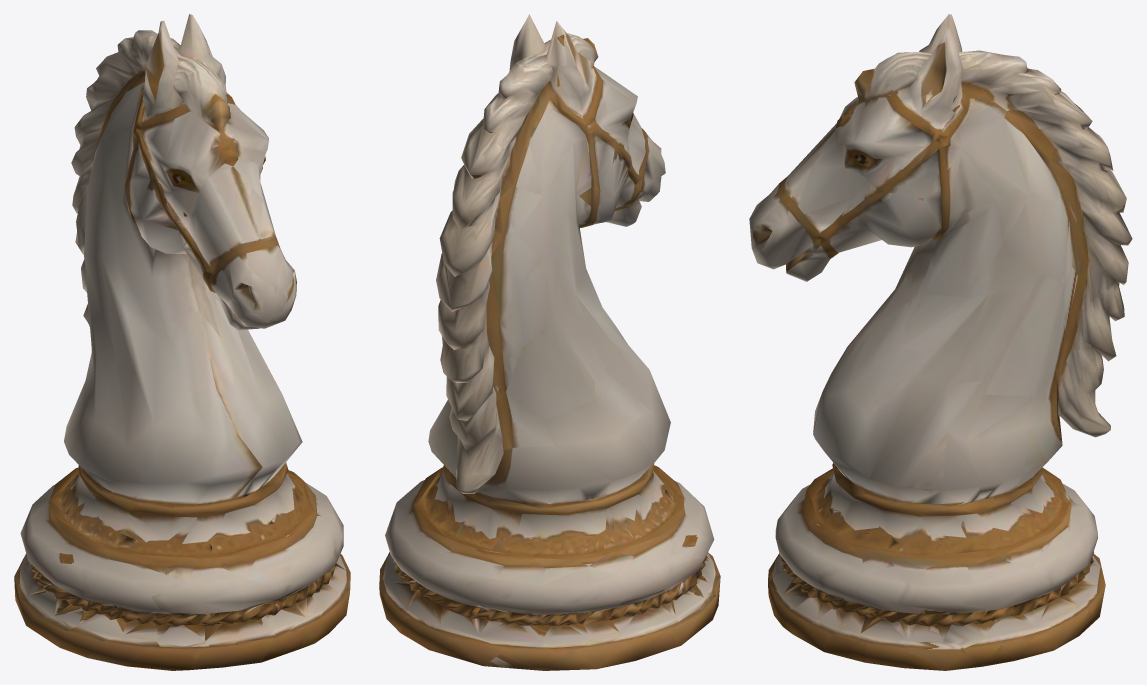
File: knight.glb
3 views of the same model, side by side, from view 1: azimuth 30°, elevation 25°; view 2: azimuth 150°, elevation 25°; view 3: azimuth 270°, elevation 25° (orthographic).
Parts seen in each view (by area): view 1: Mesh_0; view 2: Mesh_0; view 3: Mesh_0.
Part boxes in pixels (box(x1,y1,x2,y2)): Mesh_0: box(14, 14, 350, 670); Mesh_0: box(379, 14, 720, 670); Mesh_0: box(749, 14, 1132, 670).
Bounding box in the file's own units: 1 × 1.91 × 1.14.
Materials: 1 (1 with a texture image).
